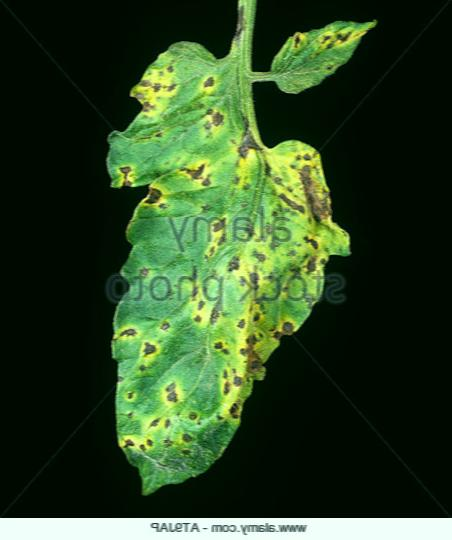Tomato Septoria leaf spot: (98, 101, 345, 497)
